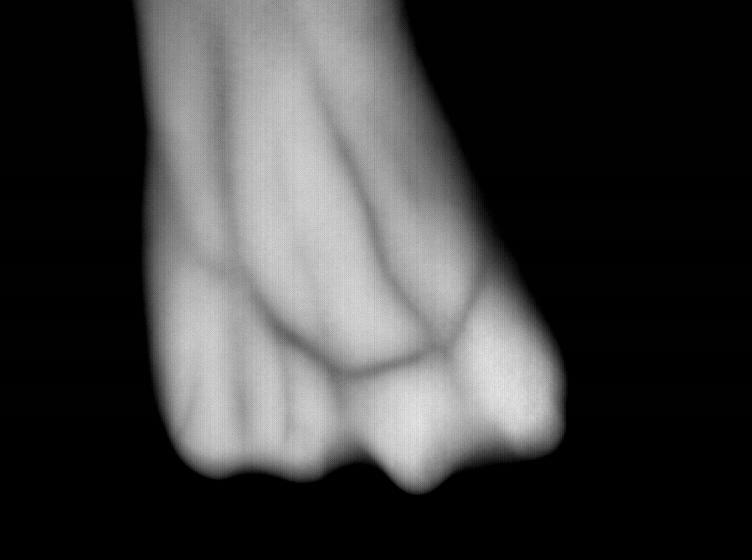Vein: (209, 107, 442, 379)
